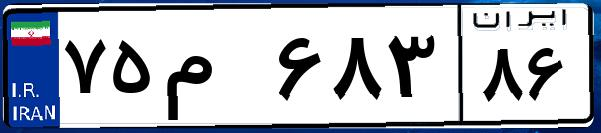3: (385, 28, 445, 110)
5: (110, 28, 158, 98)
6: (270, 28, 330, 110), (525, 38, 570, 115)
7: (57, 26, 110, 100)
8: (330, 28, 385, 110), (475, 38, 525, 113)
م: (158, 20, 270, 120)
